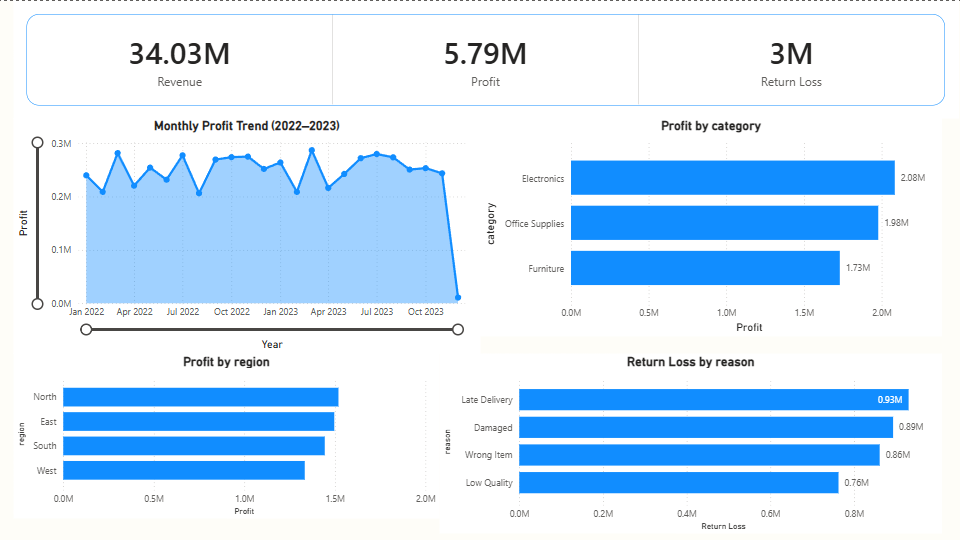

This screenshot's page, from the dashboard's own definition file:
{"tool":"powerbi","page":{"name":"Executive Overview","canvas":[1280,720],"ordinal":0},"visuals":[{"type":"cardVisual","fields":{"Data":["customers (1).Revenue","customers (1).Profit","customers (1).Return Loss"]},"box":[18.9,0,1260.5,156.9],"z":0},{"type":"lineChart","title":"Monthly Profit Trend (2022–2023)","fields":{"Y":["customers (1).Profit"],"Category":["orders (1).order_date.Variation.Date Hierarchy.Year","orders (1).order_date.Variation.Date Hierarchy.Month"]},"box":[18.9,156.9,621.7,313.7],"z":1000},{"type":"clusteredBarChart","fields":{"Category":["products.category"],"Y":["customers (1).Profit"]},"box":[640.6,156.9,616.1,291],"z":2000},{"type":"clusteredBarChart","fields":{"Category":["returns.reason"],"Y":["customers (1).Return Loss"]},"box":[586,470,670,240],"z":3000},{"type":"clusteredBarChart","fields":{"Category":["customers (1).region"],"Y":["customers (1).Profit"]},"box":[18,470,568,220],"z":4000}]}

Visuals, with their boxes in screenshot pixels (x1, y1, x2, y2), scaled from the page's 1280x720 canvas onto the 960x540 screenshot:
cardVisual - customers (1).Revenue x customers (1).Profit: box=[14, 0, 959, 118]
"Monthly Profit Trend (2022–2023)" lineChart: box=[14, 118, 480, 353]
clusteredBarChart - products.category x customers (1).Profit: box=[480, 118, 943, 336]
clusteredBarChart - returns.reason x customers (1).Return Loss: box=[440, 352, 942, 532]
clusteredBarChart - customers (1).region x customers (1).Profit: box=[14, 352, 440, 518]
